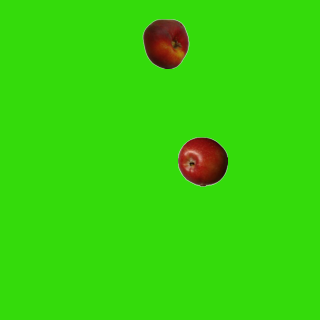Apple Braeburn: (177, 136, 227, 186)
Nectarine Flat: (140, 18, 190, 68)
